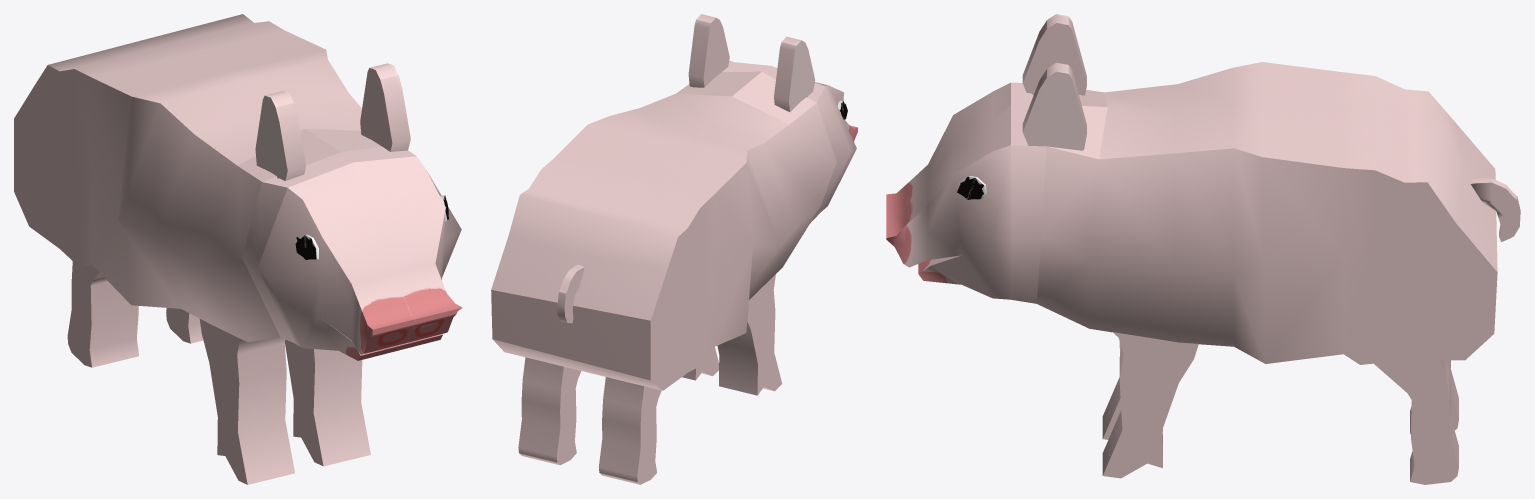
File: pig_4.fbx
3 views of the same model, side by side, from view 1: azimuth 30°, elevation 25°; view 2: azimuth 150°, elevation 25°; view 3: azimuth 270°, elevation 25° (orthographic). The views are drawn at different scales.
Visible parts, largest first — view 1: body, pCube13, pCube2, polySurface2; view 2: body, pCube13, pCube2; view 3: body, pCube13, pCube2.
Boxes of the visible parts, <box> form: body: <box>14,14,462,360</box>; pCube13: <box>67,63,410,484</box>; pCube2: <box>284,339,370,466</box>; polySurface2: <box>295,234,318,259</box>; body: <box>491,61,857,390</box>; pCube13: <box>518,14,815,484</box>; pCube2: <box>682,347,718,380</box>; body: <box>886,62,1497,364</box>; pCube13: <box>1022,14,1520,484</box>; pCube2: <box>1102,332,1198,478</box>.
Bounding box in the file's own units: 3.45 × 5.4 × 7.63.
